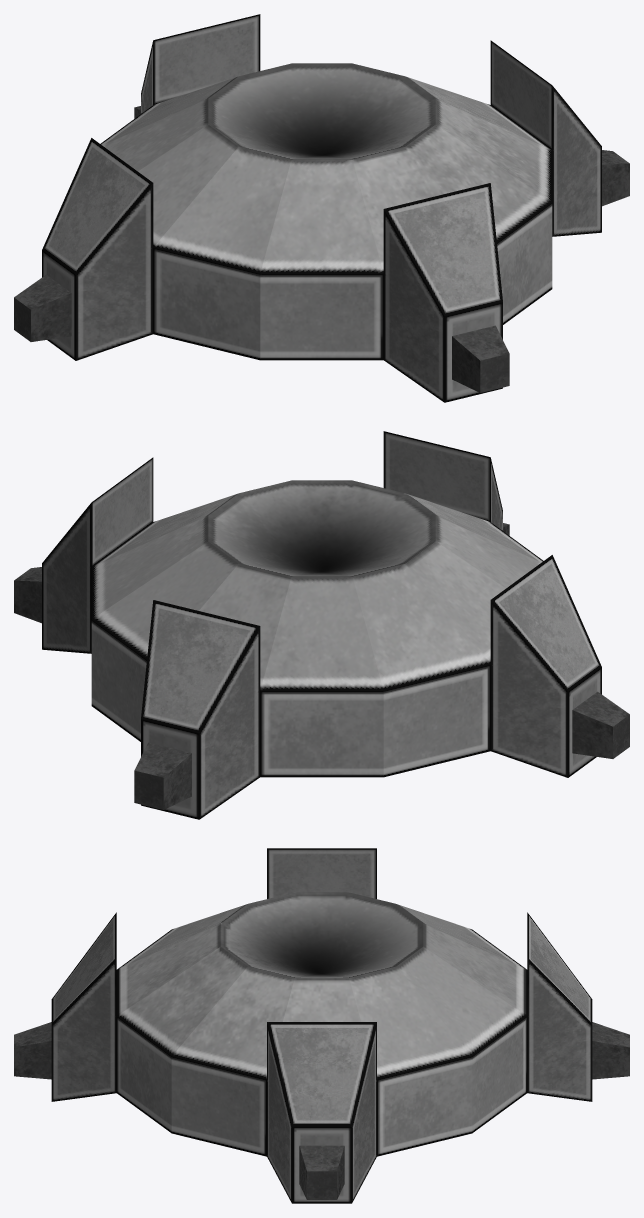
Rendered from Mine.fbx.
The picture shows the model from 3 angles, top to bottom: view 1: azimuth 30°, elevation 25°; view 2: azimuth 150°, elevation 25°; view 3: azimuth 270°, elevation 25°; orthographic projection. The views are drawn at different scales.
Parts seen in each view (by area): view 1: polySurface264; view 2: polySurface264; view 3: polySurface264.
Boxes of the visible parts, <box> form: polySurface264: <box>14,14,629,402</box>; polySurface264: <box>14,431,629,819</box>; polySurface264: <box>14,848,629,1203</box>.
Bounding box in the file's own units: 31.89 × 8.8 × 31.89.
Materials: 1 (1 with a texture image).
